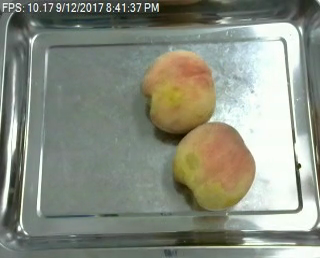Peach: (172, 121, 256, 210), (142, 48, 216, 134)
